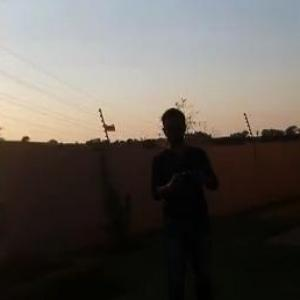follow: (147, 101, 226, 299)
